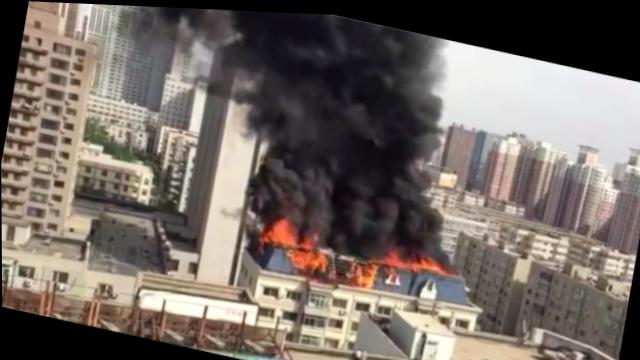fire: (268, 214, 299, 243), (289, 245, 327, 268), (378, 250, 421, 265), (362, 258, 379, 285), (352, 259, 367, 282), (298, 234, 315, 247), (423, 254, 441, 266)
